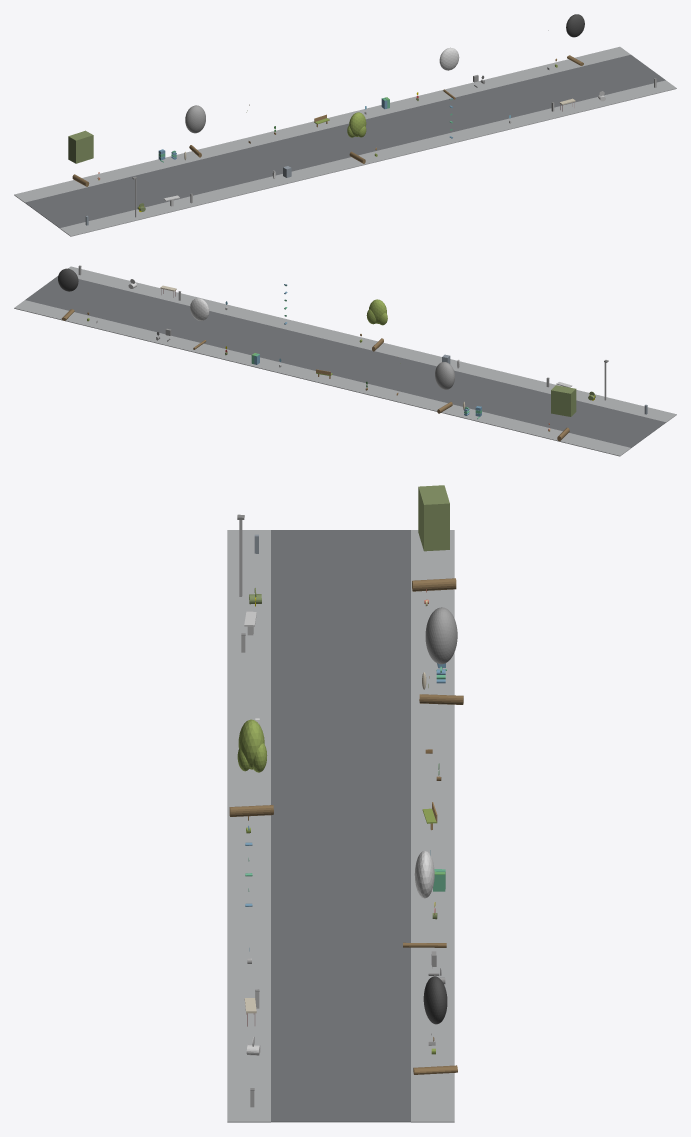
3 views of the same model, one above another, from view 1: azimuth 30°, elevation 25°; view 2: azimuth 150°, elevation 25°; view 3: azimuth 270°, elevation 25° (orthographic). The views are drawn at different scales.
Parts seen in each view (by area): view 1: road_slab, sidewalk_left, sidewalk_right, inst_0012, inst_0013, inst_0014, inst_0016, inst_0015; view 2: road_slab, sidewalk_right, sidewalk_left, inst_0012, inst_0013, inst_0014, inst_0016, inst_0015; view 3: road_slab, sidewalk_left, sidewalk_right, inst_0012, inst_0013, inst_0014, inst_0016, inst_0015.
Part boxes in pixels (<box>): road_slab: <box>25,54,665,228</box>; sidewalk_left: <box>60,80,676,236</box>; sidewalk_right: <box>14,46,630,202</box>; inst_0012: <box>68,130,93,186</box>; inst_0013: <box>185,105,205,157</box>; inst_0014: <box>347,112,366,163</box>; inst_0016: <box>566,14,584,65</box>; inst_0015: <box>439,47,459,99</box>; road_slab: <box>25,276,665,447</box>; sidewalk_right: <box>14,300,630,456</box>; sidewalk_left: <box>68,266,676,422</box>; inst_0012: <box>551,385,576,441</box>; inst_0013: <box>435,362,454,413</box>; inst_0014: <box>366,299,387,351</box>; inst_0016: <box>58,268,78,320</box>; inst_0015: <box>190,298,209,349</box>; road_slab: <box>271,530,410,1122</box>; sidewalk_left: <box>227,530,270,1122</box>; sidewalk_right: <box>411,530,454,1122</box>; inst_0012: <box>412,485,456,591</box>; inst_0013: <box>419,607,463,704</box>; inst_0014: <box>229,719,273,816</box>; inst_0016: <box>413,976,457,1074</box>; inst_0015: <box>403,851,446,947</box>.
Bounding box in the file's own units: 80 × 6.08 × 13.51.
